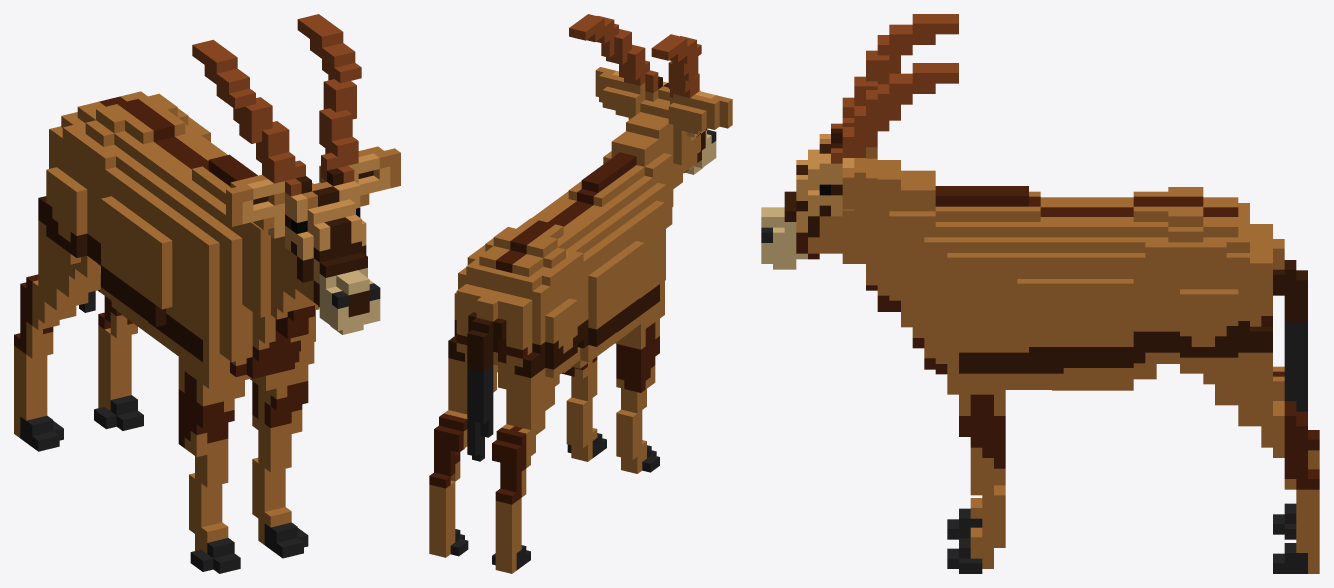
Rendered from beisa_oryx.fbx.
The picture shows the model from 3 angles, left to right: view 1: azimuth 30°, elevation 25°; view 2: azimuth 150°, elevation 25°; view 3: azimuth 270°, elevation 25°; orthographic projection. The views are drawn at different scales.
Visible parts, largest first — view 1: beisa_oryx; view 2: beisa_oryx; view 3: beisa_oryx.
Boxes of the visible parts, <box> form: beisa_oryx: <box>14,14,400,573</box>; beisa_oryx: <box>429,14,732,573</box>; beisa_oryx: <box>761,14,1319,573</box>.
Size of the model in its own units: 16 by 48 by 48.
